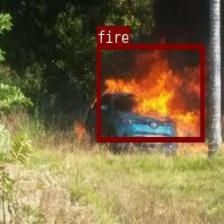fire: (96, 43, 204, 142)
